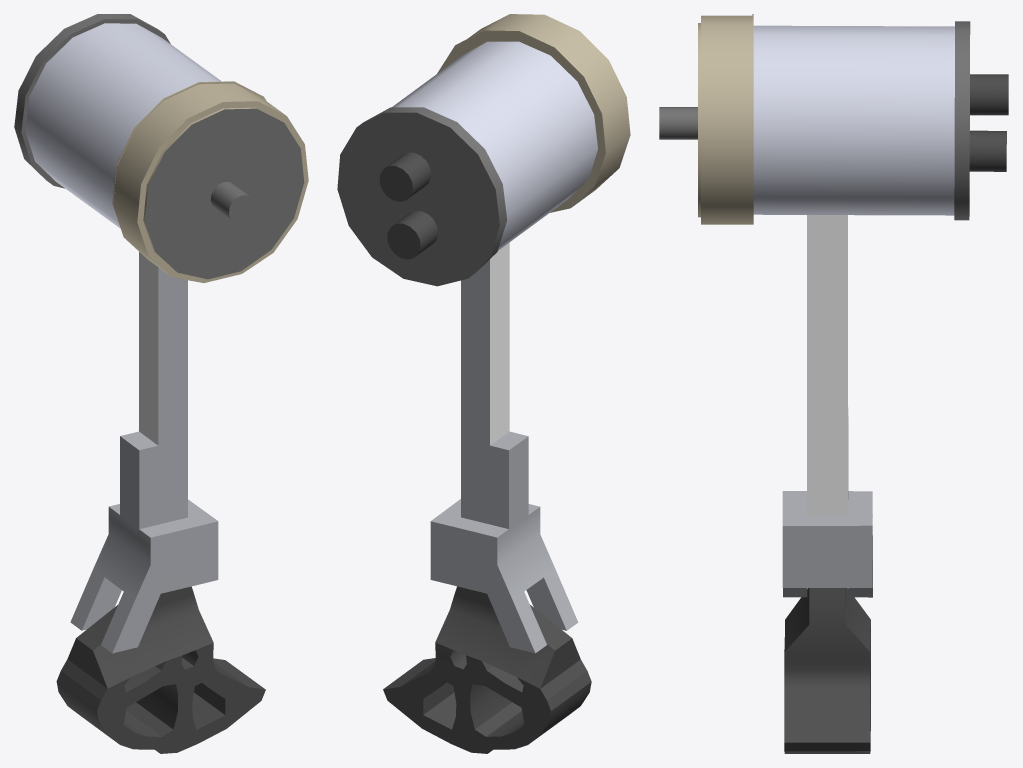
The model's file is SILVER2_Tibia_Simplified.fbx.
The picture shows the model from 3 angles, left to right: view 1: azimuth 30°, elevation 25°; view 2: azimuth 150°, elevation 25°; view 3: azimuth 270°, elevation 25°; orthographic projection. The views are drawn at different scales.
Visible parts, largest first — view 1: Tibia_Foot, Tibia_Rotator, TibiaCanister; view 2: Tibia_Foot, TibiaCanister, Tibia_Rotator, TibiaCanisterButton; view 3: TibiaCanister, Tibia_Foot, Tibia_Rotator, TibiaCanisterButton.
Boxes of the visible parts, left/top/right/bottom form: Tibia_Foot: left=56, top=252, right=265, bottom=753; Tibia_Rotator: left=112, top=81, right=308, bottom=282; TibiaCanister: left=14, top=14, right=221, bottom=228; Tibia_Foot: left=383, top=242, right=591, bottom=753; TibiaCanister: left=337, top=41, right=597, bottom=286; Tibia_Rotator: left=437, top=14, right=630, bottom=212; TibiaCanisterButton: left=387, top=211, right=437, bottom=259; TibiaCanister: left=753, top=21, right=1008, bottom=220; Tibia_Foot: left=782, top=215, right=872, bottom=753; Tibia_Rotator: left=659, top=14, right=753, bottom=224; TibiaCanisterButton: left=969, top=130, right=1006, bottom=171.
Size of the model in its own units: 0.2017 by 0.7558 by 0.332.
1 material, 1 textured.
